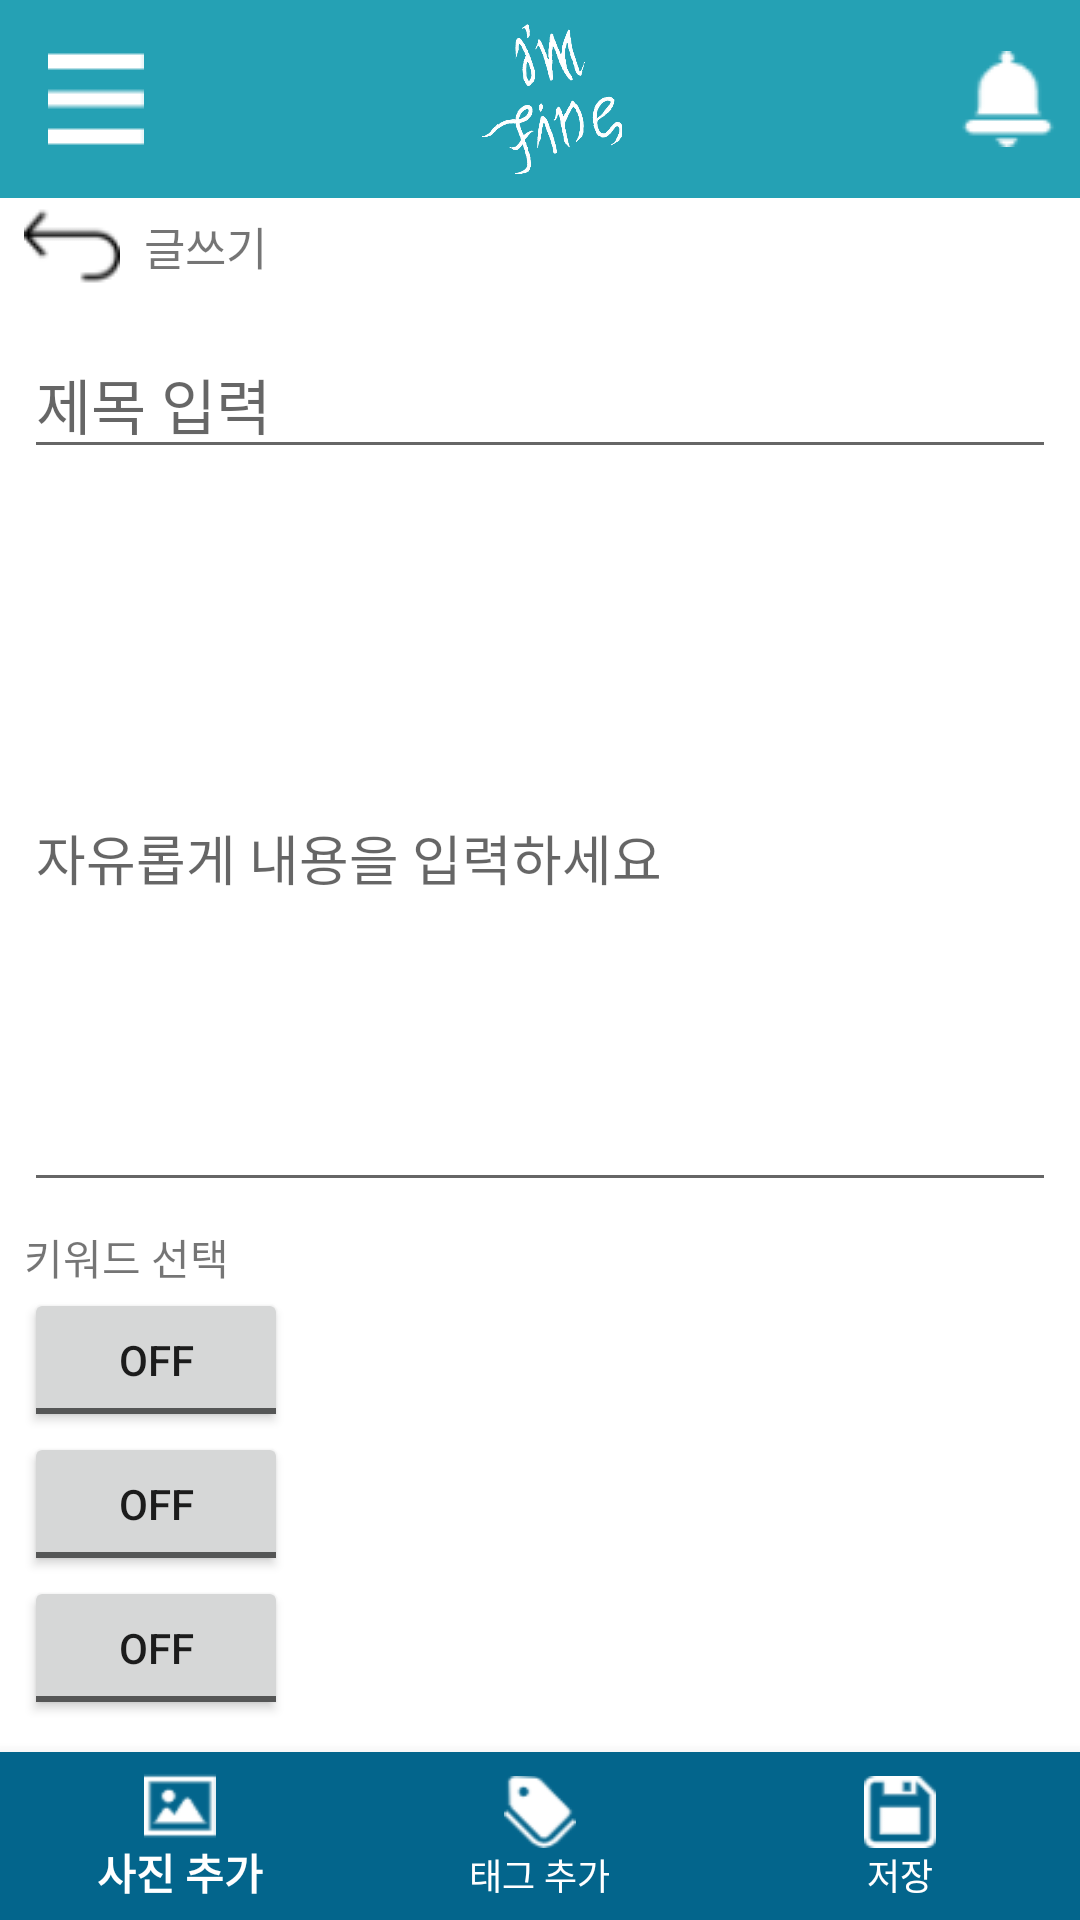

Icon bounding boxes for this 1080px×1920px phone screenshot, format (x1, y1, x2, y2):
bell: (963, 51, 1053, 147)
menu: (48, 53, 144, 145)
return: (24, 210, 120, 283)
